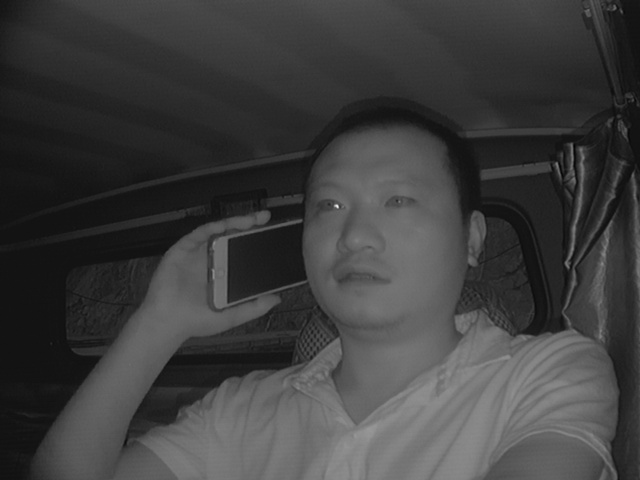hand: (148, 213, 275, 336)
